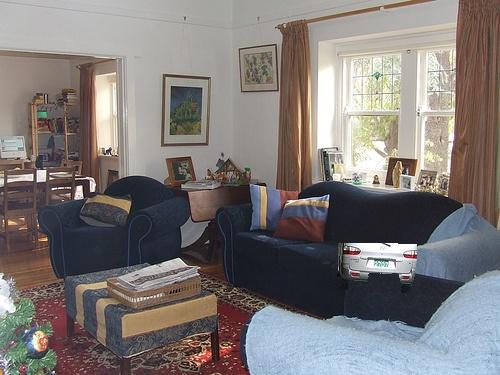tampered: (338, 244, 417, 293)
